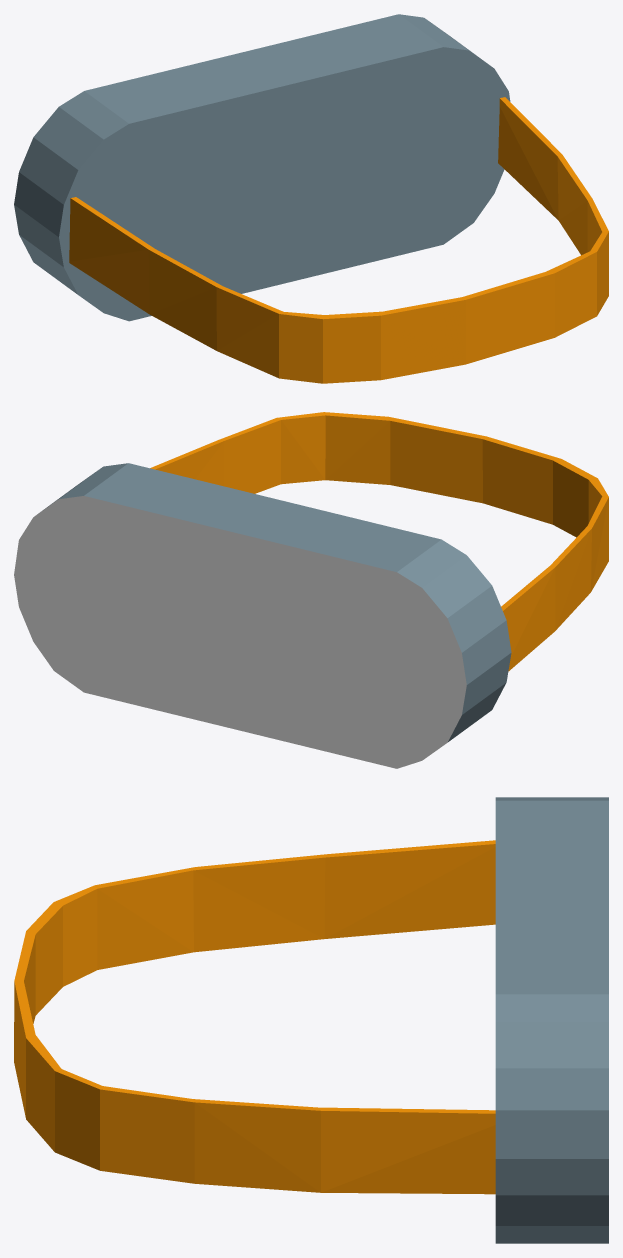
The model's file is head.fbx.
3 views of the same model, one above another, from view 1: azimuth 30°, elevation 25°; view 2: azimuth 150°, elevation 25°; view 3: azimuth 270°, elevation 25° (orthographic). The views are drawn at different scales.
Visible parts, largest first — view 1: group_708664798, mesh_141780190; view 2: group_708664798, mesh_141780190; view 3: mesh_141780190, group_708664798.
Part boxes in pixels (<box>): group_708664798: <box>14,14,510,321</box>; mesh_141780190: <box>69,97,608,383</box>; group_708664798: <box>14,463,511,768</box>; mesh_141780190: <box>150,412,608,671</box>; mesh_141780190: <box>14,840,495,1194</box>; group_708664798: <box>495,797,608,1243</box>.
Bounding box in the file's own units: 100 × 41.68 × 90.25.
